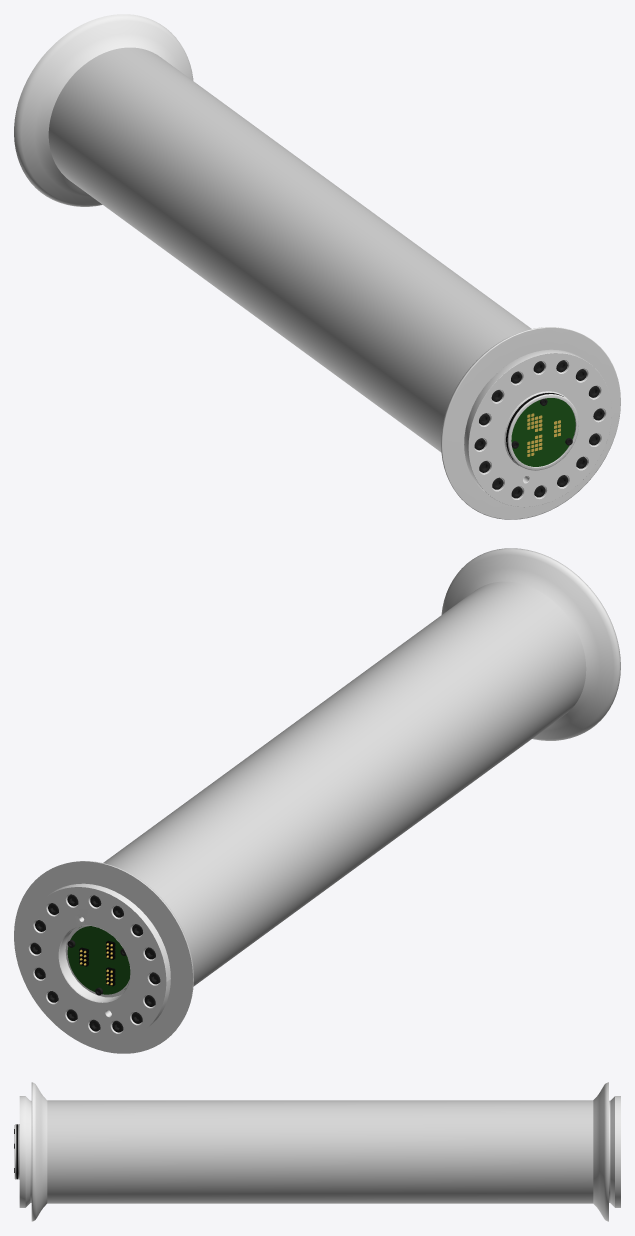
3 views of the same model, one above another, from view 1: azimuth 30°, elevation 25°; view 2: azimuth 150°, elevation 25°; view 3: azimuth 270°, elevation 25° (orthographic). The views are drawn at different scales.
Parts seen in each view (by area): view 1: I116.001; view 2: I116.001; view 3: I116.001.
Boxes of the visible parts, x1=… form: I116.001: x1=14, y1=14, x2=620, y2=519; I116.001: x1=14, y1=548, x2=620, y2=1053; I116.001: x1=14, y1=1082, x2=620, y2=1221.
Size of the model in its own units: 0.116 by 0.116 by 0.5047.
